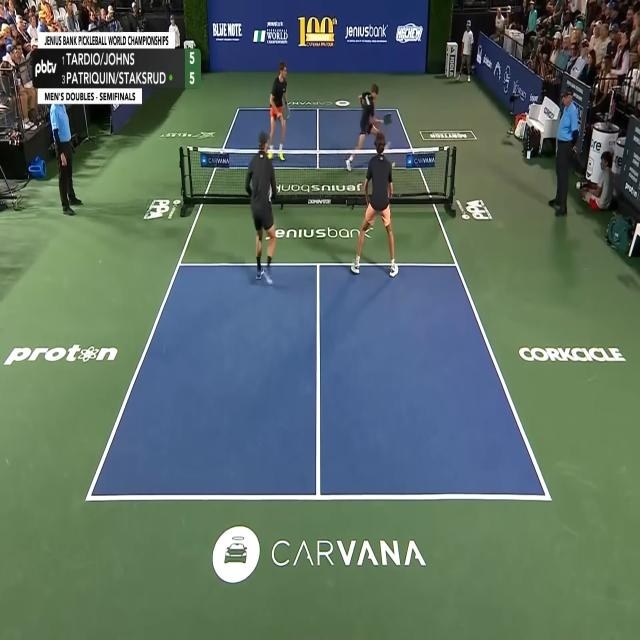ball: (392, 162, 395, 170)
